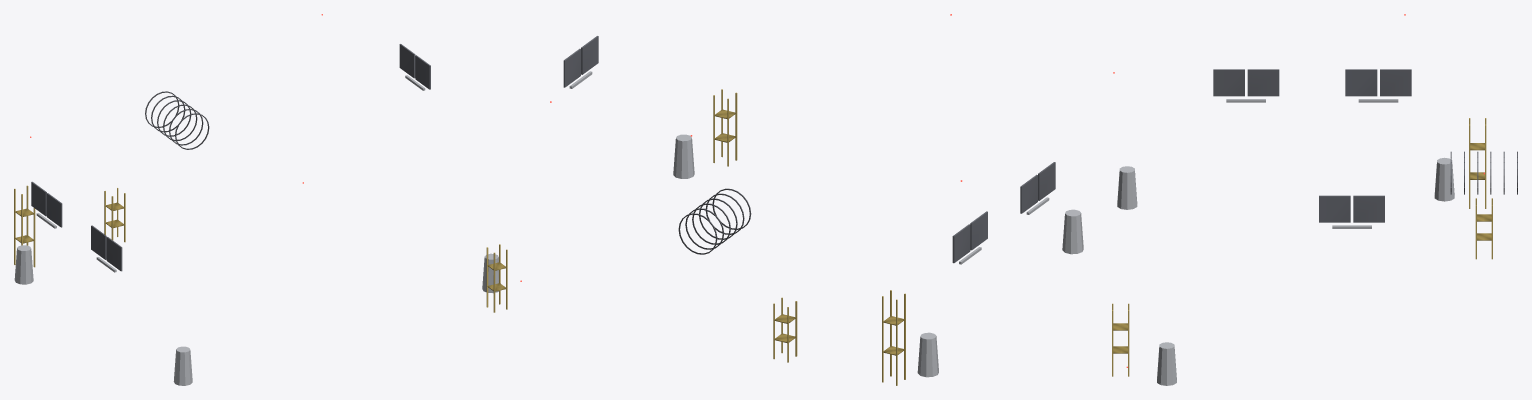
Rendered from 08_backdrop.glb.
The picture shows the model from 3 angles, left to right: view 1: azimuth 30°, elevation 25°; view 2: azimuth 150°, elevation 25°; view 3: azimuth 270°, elevation 25°; orthographic projection. The views are drawn at different scales.
Parts seen in each view (by area): view 1: backdrop_hulldark_nocol, backdrop_steel_nocol, backdrop_truss_nocol; view 2: backdrop_hulldark_nocol, backdrop_steel_nocol, backdrop_truss_nocol; view 3: backdrop_hulldark_nocol, backdrop_steel_nocol, backdrop_truss_nocol.
Part boxes in pixels (box(x1,y1,x2,y2)): backdrop_hulldark_nocol: box(31, 44, 430, 271); backdrop_steel_nocol: box(14, 75, 498, 385); backdrop_truss_nocol: box(14, 185, 507, 312); backdrop_hulldark_nocol: box(563, 36, 1055, 263); backdrop_steel_nocol: box(569, 71, 1083, 377); backdrop_truss_nocol: box(713, 89, 905, 385); backdrop_hulldark_nocol: box(1213, 69, 1517, 222); backdrop_steel_nocol: box(1117, 99, 1454, 385); backdrop_truss_nocol: box(1112, 118, 1492, 376).
Size of the model in its own units: 353 by 162 by 307.
